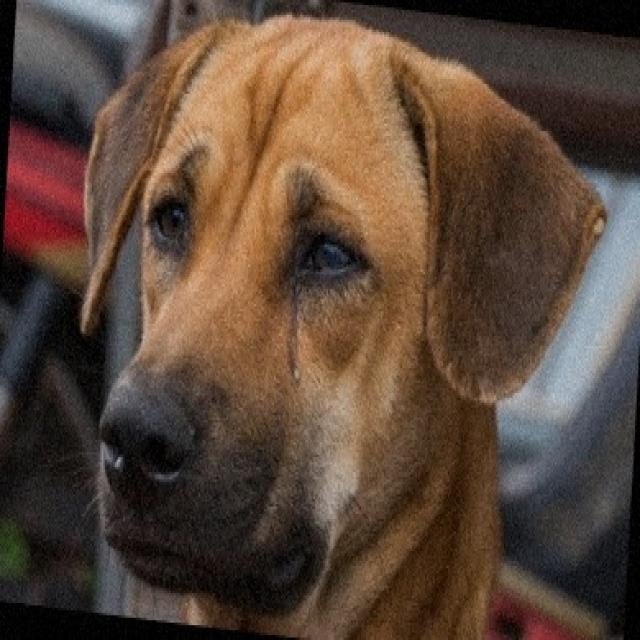sad: (70, 0, 576, 640)
